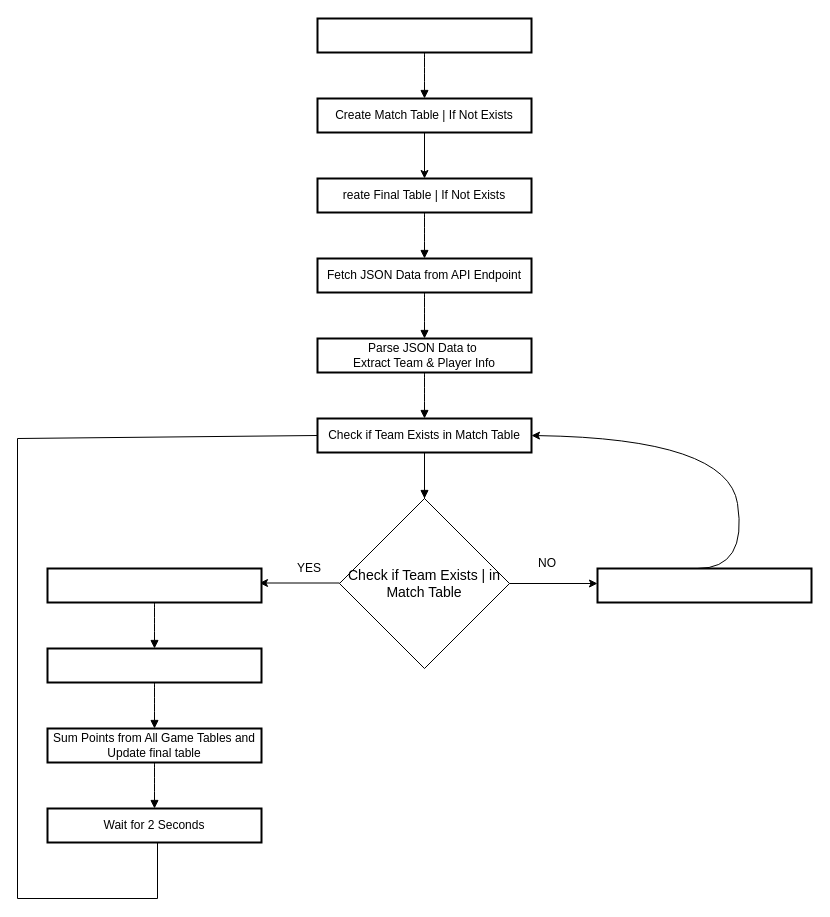
Image size: 830x917. Some labels were removed from this diagram. The box of each missing label's shape, as (x1, y1, x2, y2) in pixels:
Calculate Total Points and Update Match Table: (46, 647, 262, 683)
Connect to SQLite database: (316, 17, 532, 53)
If Exists, Update Data: (46, 567, 262, 603)
If Not, Insert New Data: (596, 567, 812, 603)
